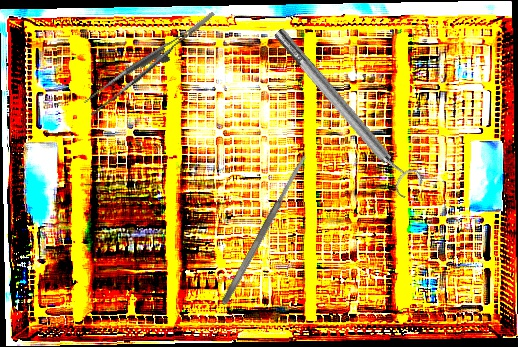Fixation Ring: (266, 19, 427, 202)
Spatula Surgical: (219, 152, 310, 307)
Tissue Forceps: (75, 11, 229, 116)
